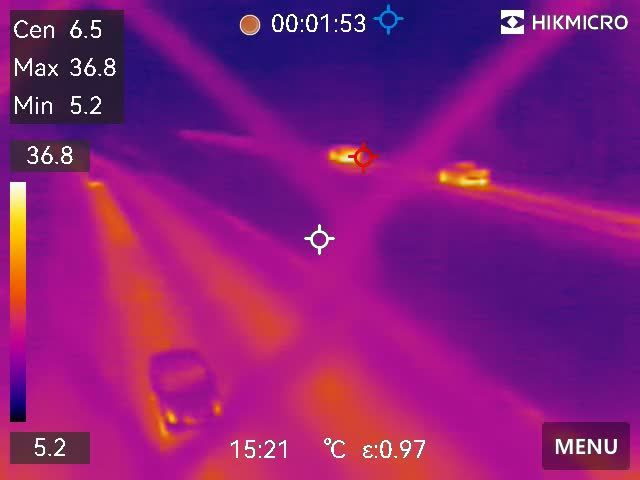lightTruck: (435, 148, 489, 185)
